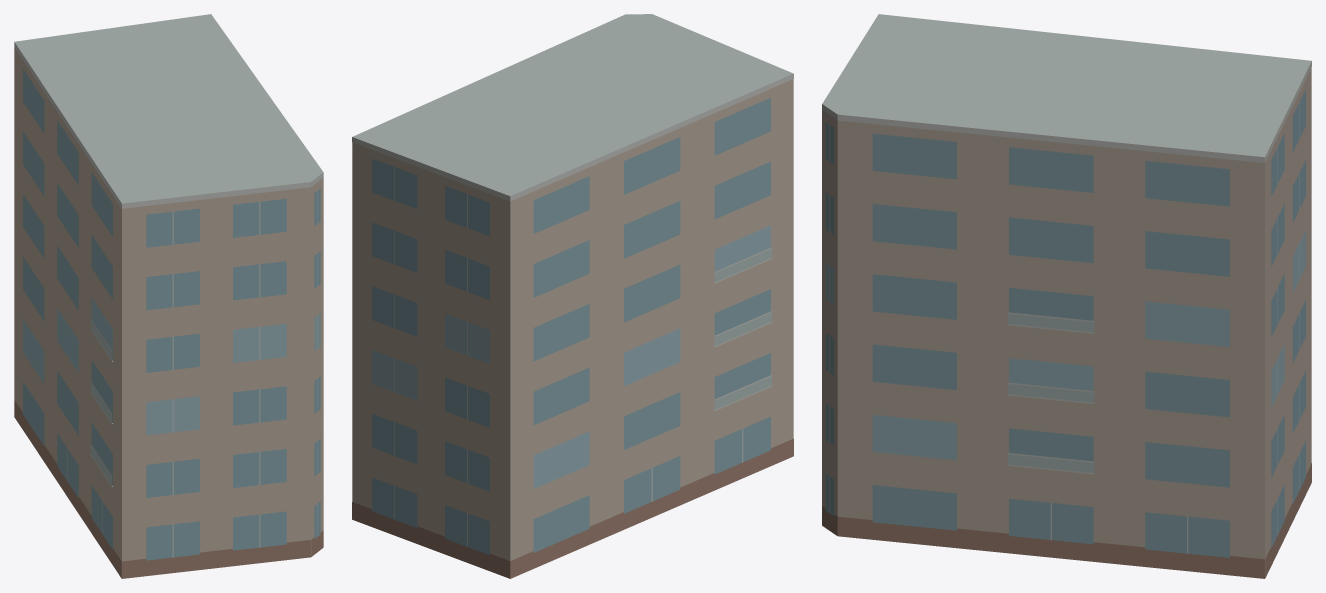
The model's file is survey-upis-32901172.glb.
The picture shows the model from 3 angles, left to right: view 1: azimuth 30°, elevation 25°; view 2: azimuth 150°, elevation 25°; view 3: azimuth 270°, elevation 25°; orthographic projection. The views are drawn at different scales.
Parts seen in each view (by area): view 1: survey-upis-32901172.tmp; view 2: survey-upis-32901172.tmp; view 3: survey-upis-32901172.tmp.
Part boxes in pixels (left/top/right/bottom): survey-upis-32901172.tmp: left=14, top=14, right=323, bottom=578; survey-upis-32901172.tmp: left=352, top=14, right=793, bottom=578; survey-upis-32901172.tmp: left=822, top=14, right=1311, bottom=578.
Size of the model in its own units: 12.83 by 17.6 by 18.54.
